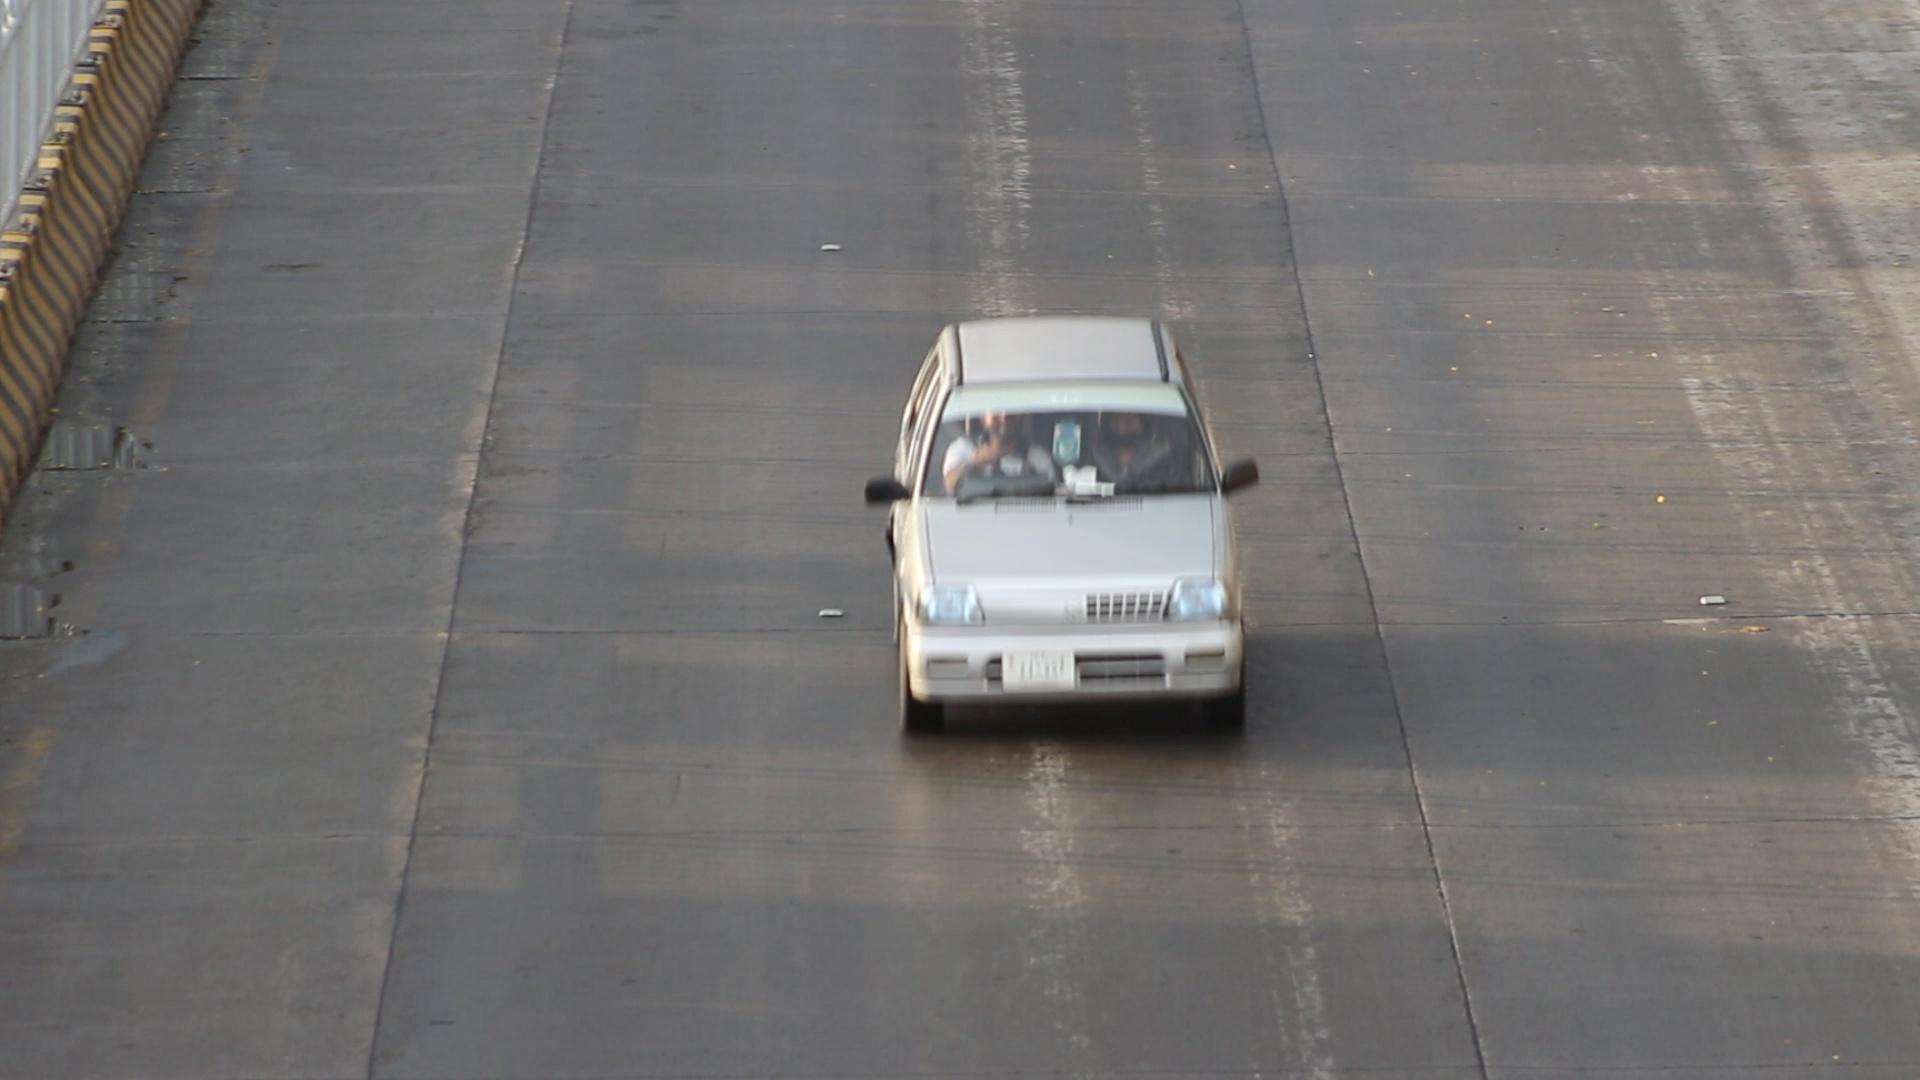windshield: (918, 371, 1234, 504)
